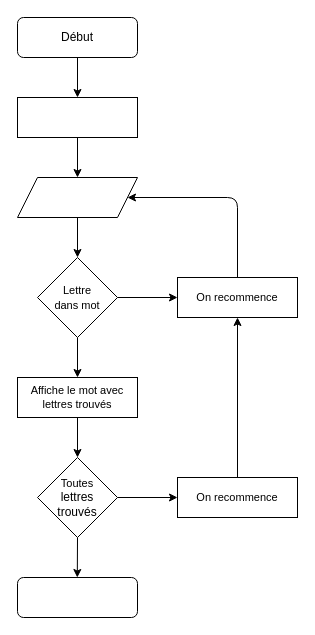
This 315x635 diagram has some shape labels left out. Each missing label, with the centre of its shape:
Choix du mot: [77,117]
Fin: [77,597]
Lettre choisis: [77,197]
